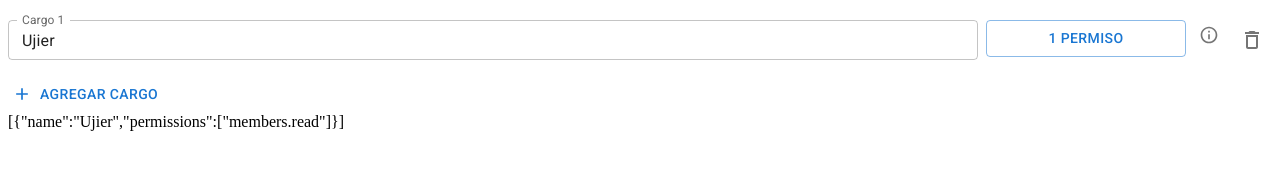
Test: PositionsField › lists the permissions of a row from its info icon
The width and height of the screenshot is (1280, 172).
Step 1. Click the button named "Ver permisos de Ujier" → (1209, 35), box left=1194, top=20, right=1224, bottom=50
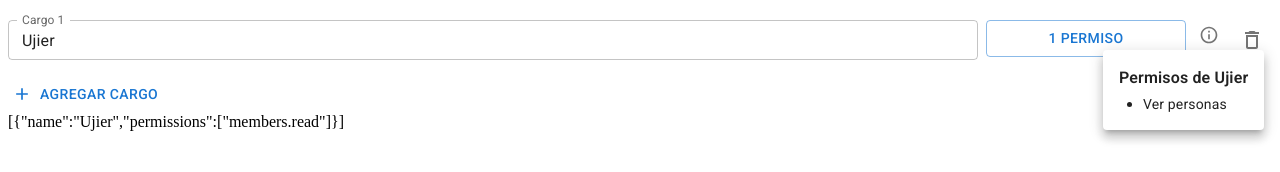
Result: the text "Ver personas" is shown at left=1143, top=96, right=1227, bottom=112
